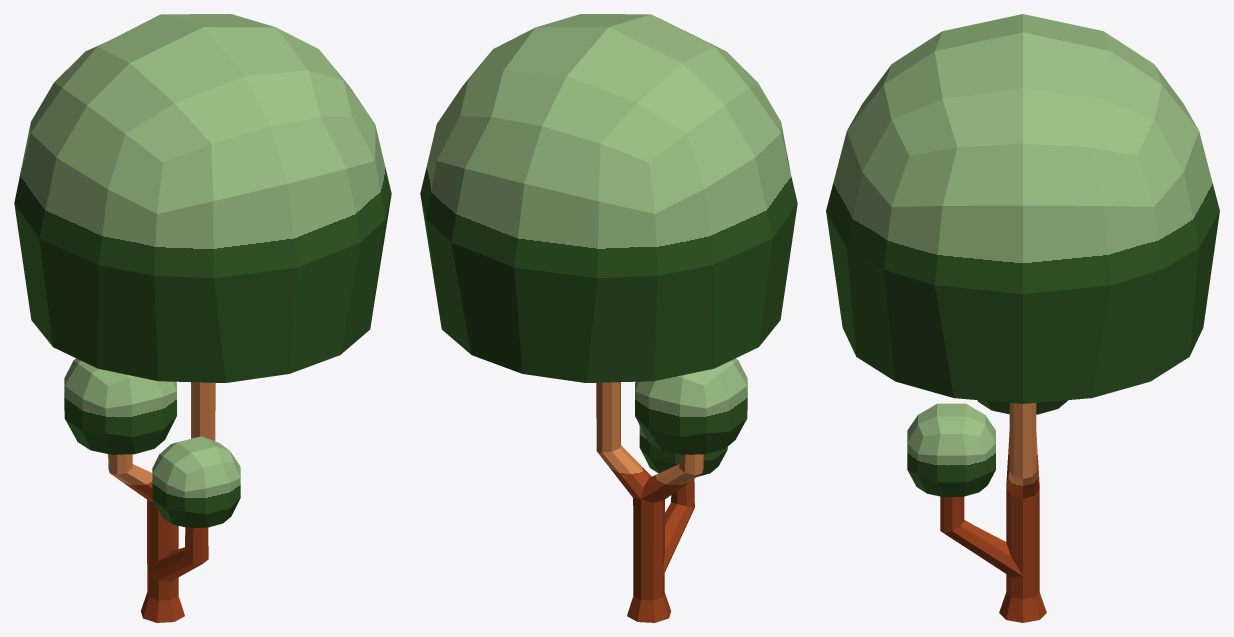
Rendered from ArcCircleTree.glb.
3 renders of one model, left to right at view 1: azimuth 30°, elevation 25°; view 2: azimuth 150°, elevation 25°; view 3: azimuth 270°, elevation 25°, orthographic. The views are drawn at different scales.
Parts seen in each view (by area): view 1: Tree.002; view 2: Tree.002; view 3: Tree.002.
Part boxes in pixels (x1=…): Tree.002: x1=14, y1=14, x2=391, y2=622; Tree.002: x1=420, y1=14, x2=797, y2=622; Tree.002: x1=826, y1=14, x2=1219, y2=622.
Size of the model in its own units: 1.52 by 2.56 by 1.52.
Materials: 1 (1 with a texture image).
